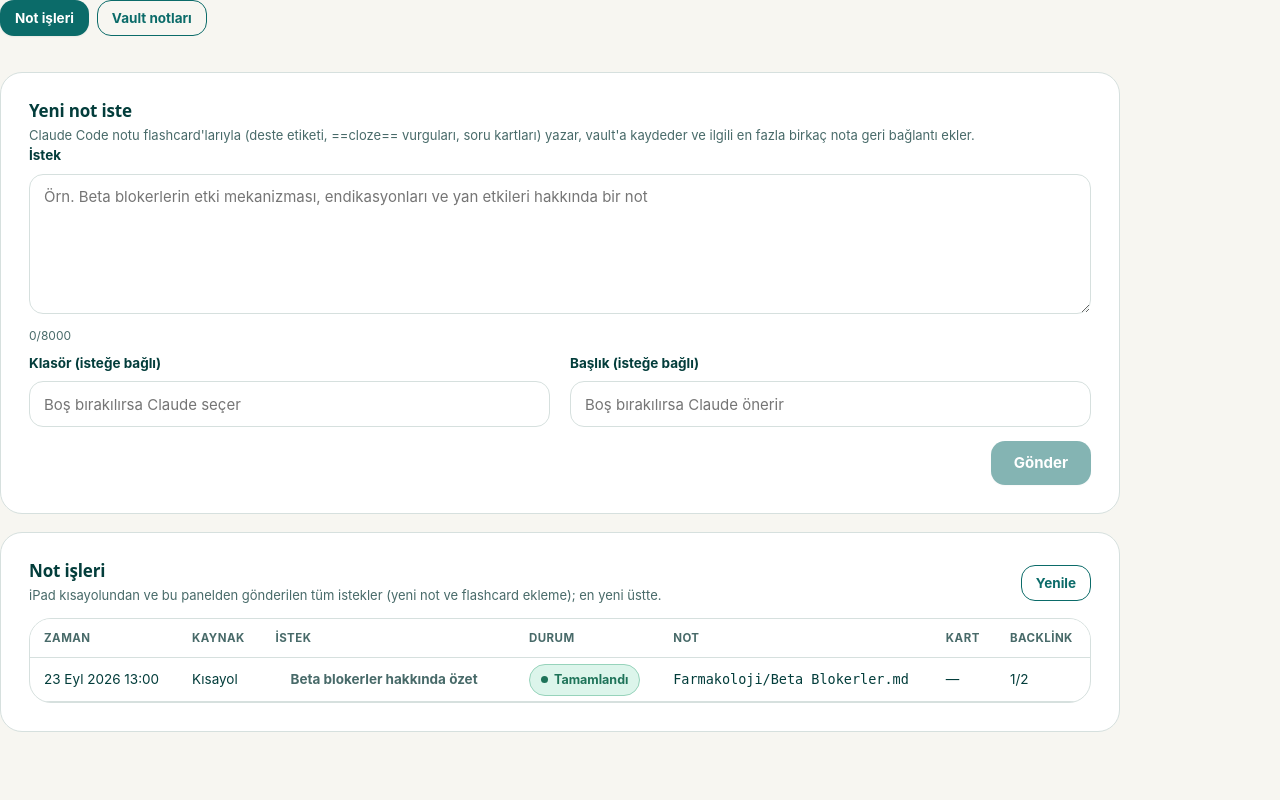
Test case: AdminVault › lists stored jobs and opens one
Expected: the text "Farmakoloji/Beta Blokerler.md" is shown, x1=659 y1=658 x2=932 y2=702
Expected: the text "Tamamlandı" is shown, x1=529 y1=664 x2=640 y2=696
Step 1. Click the button "Beta blokerler hakkında özet" → (384, 680), box x1=276 y1=662 x2=493 y2=698
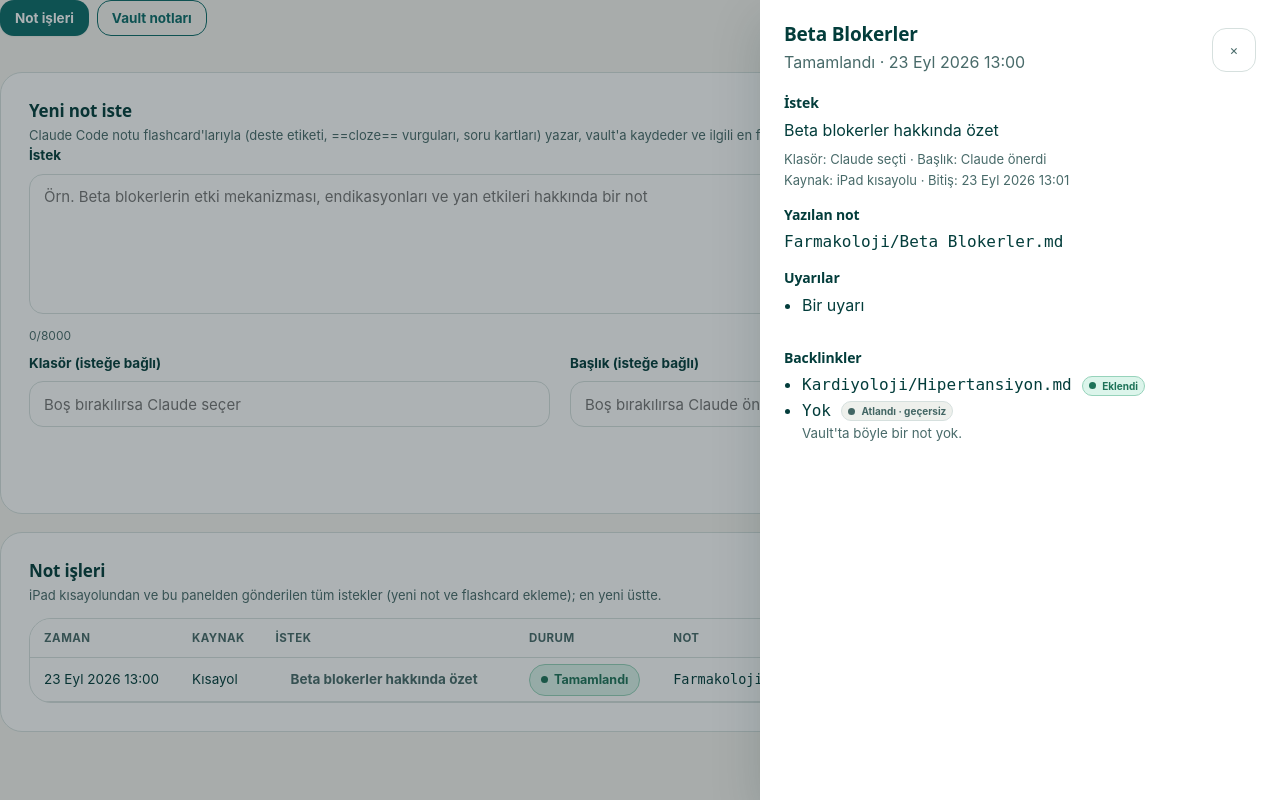
Result: the list item "Bir uyarı" is shown at x1=802 y1=294 x2=864 y2=314
Result: the text "Vault'ta böyle bir not yok." is shown at x1=802 y1=425 x2=962 y2=441
